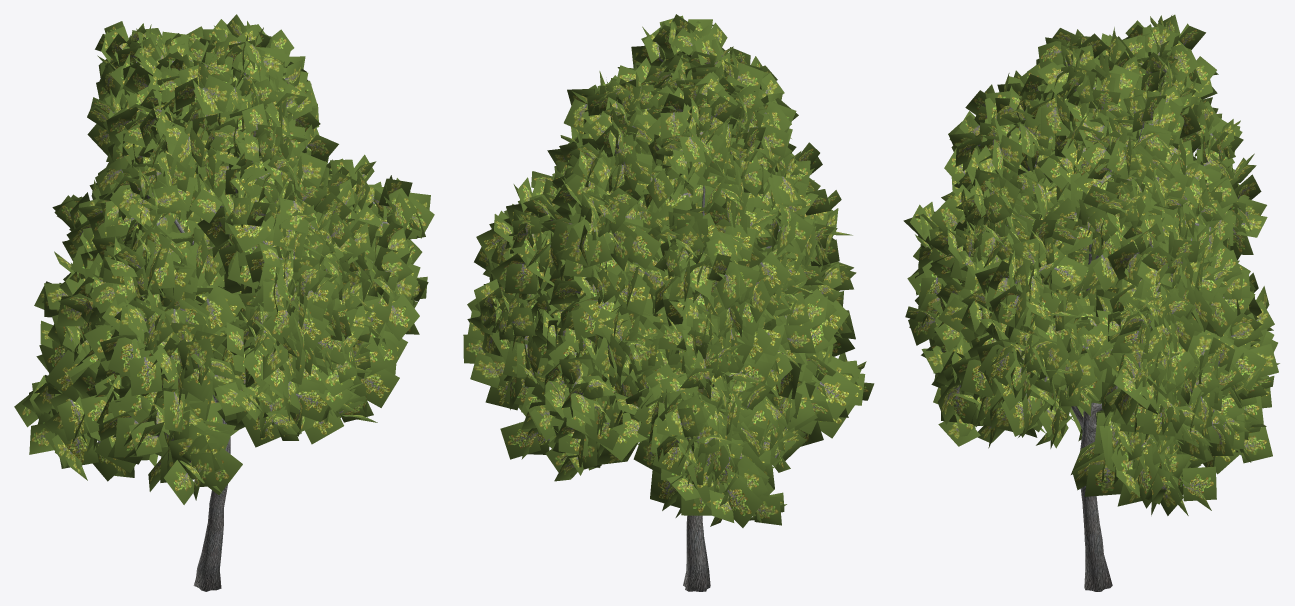
Rendered from European_Linden.fbx.
3 views of the same model, side by side, from view 1: azimuth 30°, elevation 25°; view 2: azimuth 150°, elevation 25°; view 3: azimuth 270°, elevation 25° (orthographic).
Visible parts, largest first — view 1: EuropeanLinden_Hero_26; view 2: EuropeanLinden_Hero_26; view 3: EuropeanLinden_Hero_26.
Part boxes in pixels (x1,y1,x2,y2): EuropeanLinden_Hero_26: (14, 14, 434, 591); EuropeanLinden_Hero_26: (463, 14, 874, 591); EuropeanLinden_Hero_26: (903, 14, 1279, 591).
Size of the model in its own units: 1.99 by 3.15 by 1.9.
